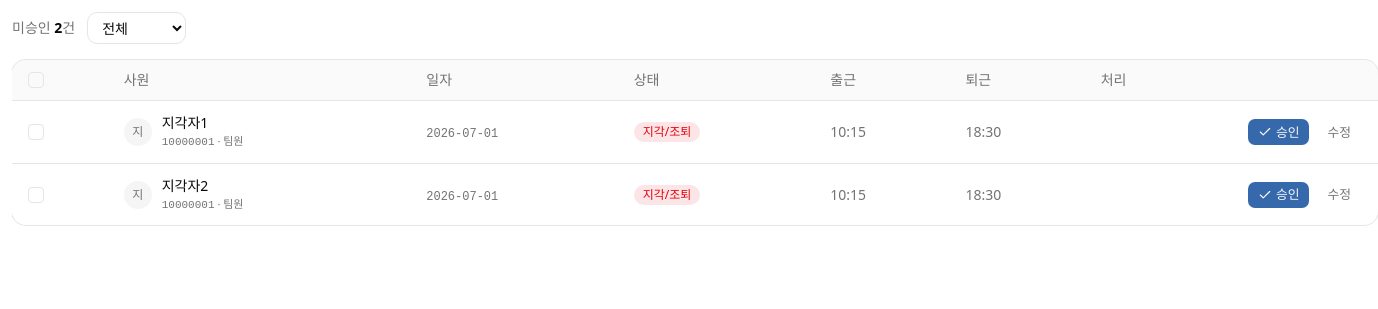
Test: DeptAttendancePendingTable (F306) › 행 체크박스/전체선택(T3.4-b 확장) › 전체선택 체크박스: 일부만 선택 시 indeterminate, 전체 선택/해제 시 각각 checked/unchecked가 된다
Click the checkbox named "지각자1 근태 선택" at (36, 132), box [28,124,44,140]
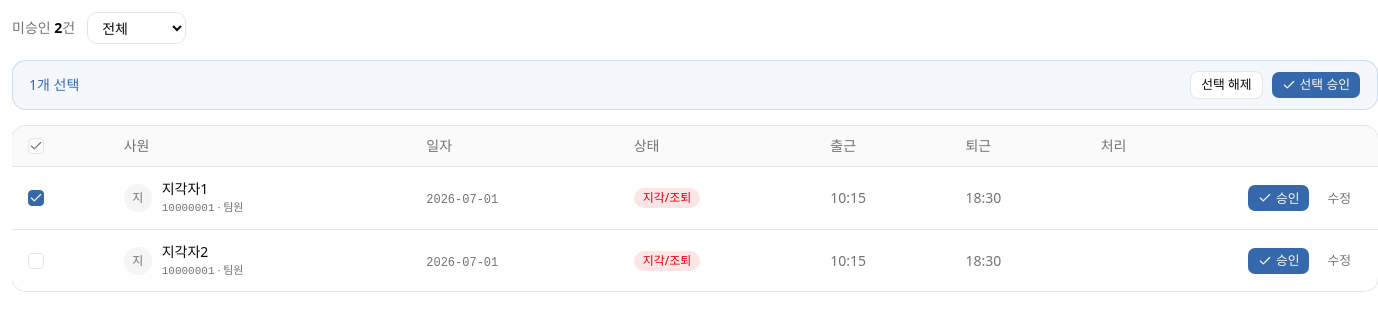
Click the checkbox named "전체 선택" at (36, 146), box [28,138,44,154]
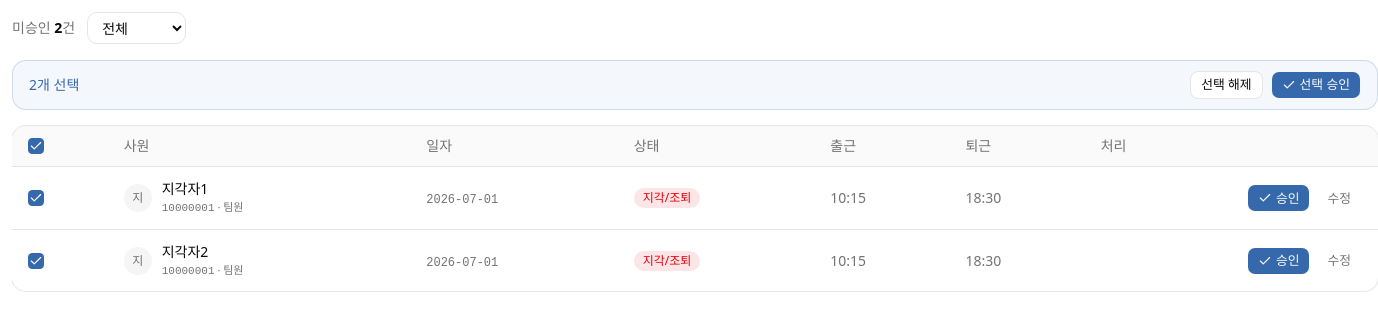
Expected: the checkbox named "지각자1 근태 선택" is checked, [28,190,44,206]
Expected: the checkbox named "지각자2 근태 선택" is checked, [28,252,44,268]
Click the checkbox named "전체 선택" at (36, 146), box [28,138,44,154]
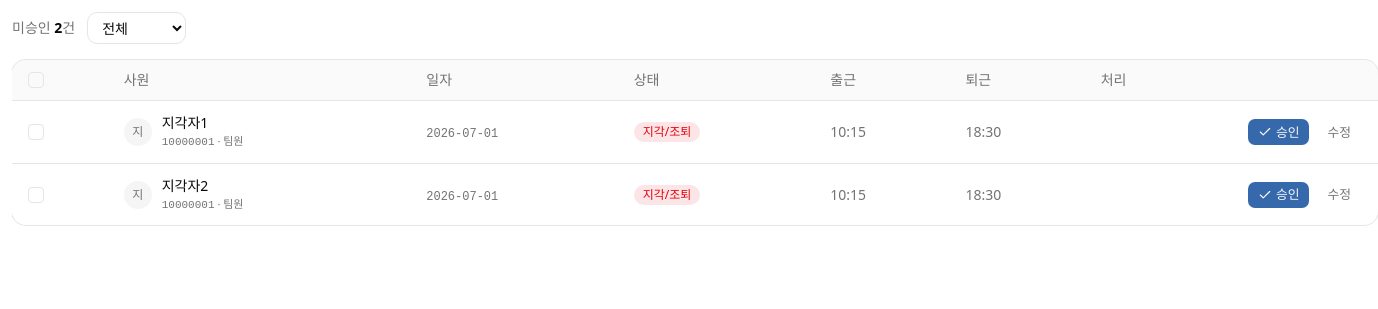
Expected: the checkbox named "지각자1 근태 선택" is not checked, [28,124,44,140]
Expected: the checkbox named "지각자2 근태 선택" is not checked, [28,186,44,202]
